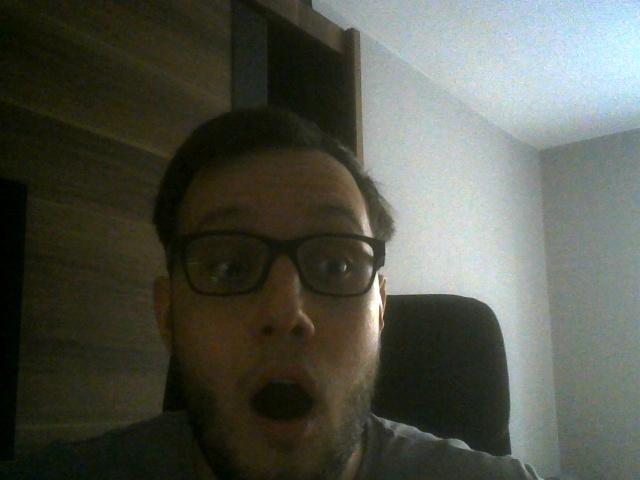surprised: (151, 109, 388, 480)
